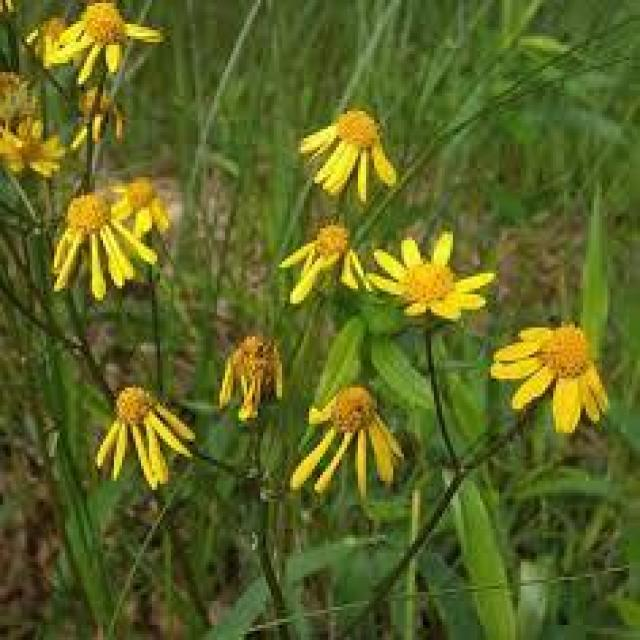organic waste: (491, 310, 607, 438), (42, 194, 167, 305), (301, 384, 415, 498), (104, 376, 210, 492), (368, 230, 498, 323), (290, 102, 407, 204), (49, 5, 182, 91), (271, 227, 380, 305), (222, 331, 288, 424), (103, 172, 187, 240), (8, 118, 68, 176)
